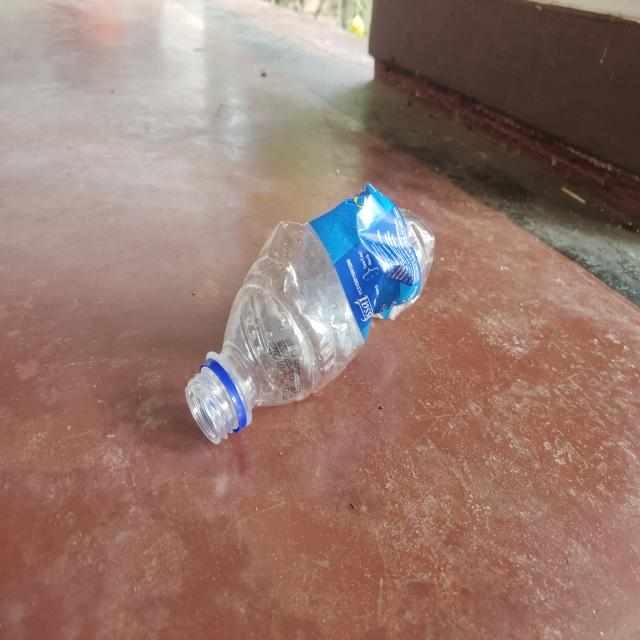plastic: (186, 182, 434, 444)
